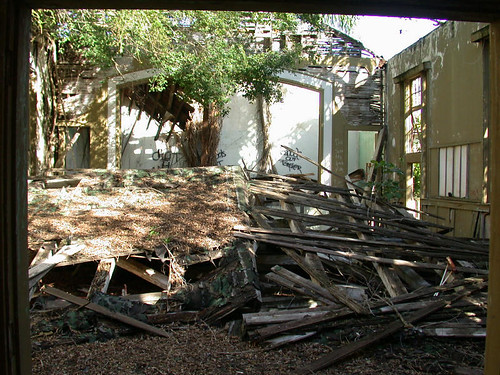building: (57, 1, 393, 197)
trash: (20, 159, 496, 375)
